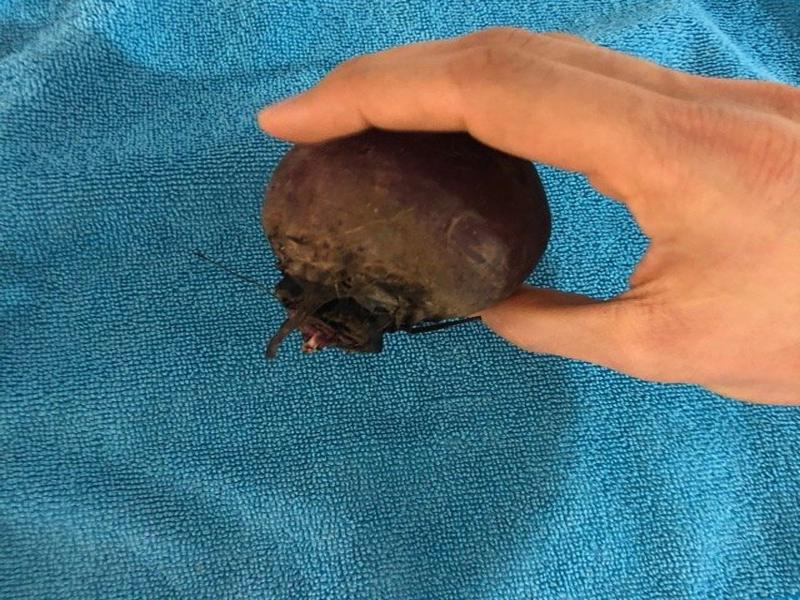Beet: (263, 130, 548, 357)
